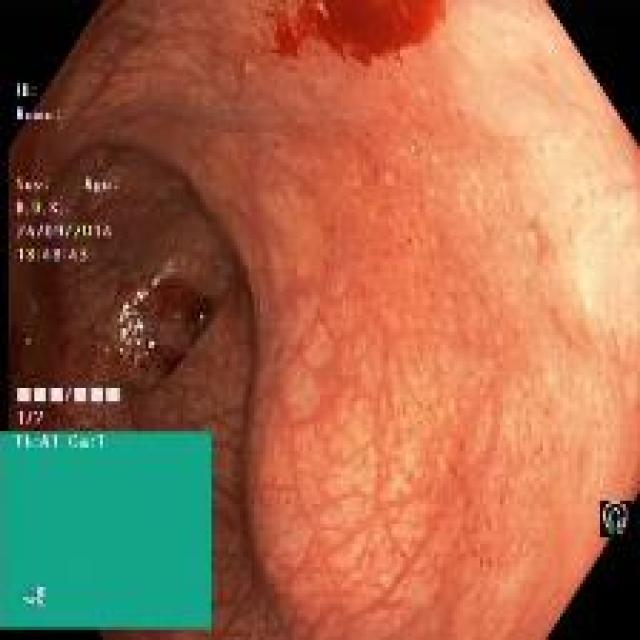ulcerative-colitis-grade-1: (46, 3, 640, 638)
